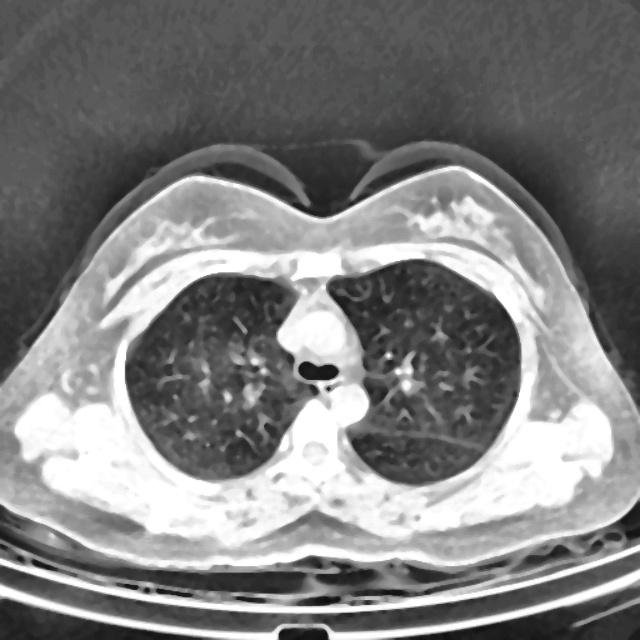covid: (1, 139, 638, 585)
